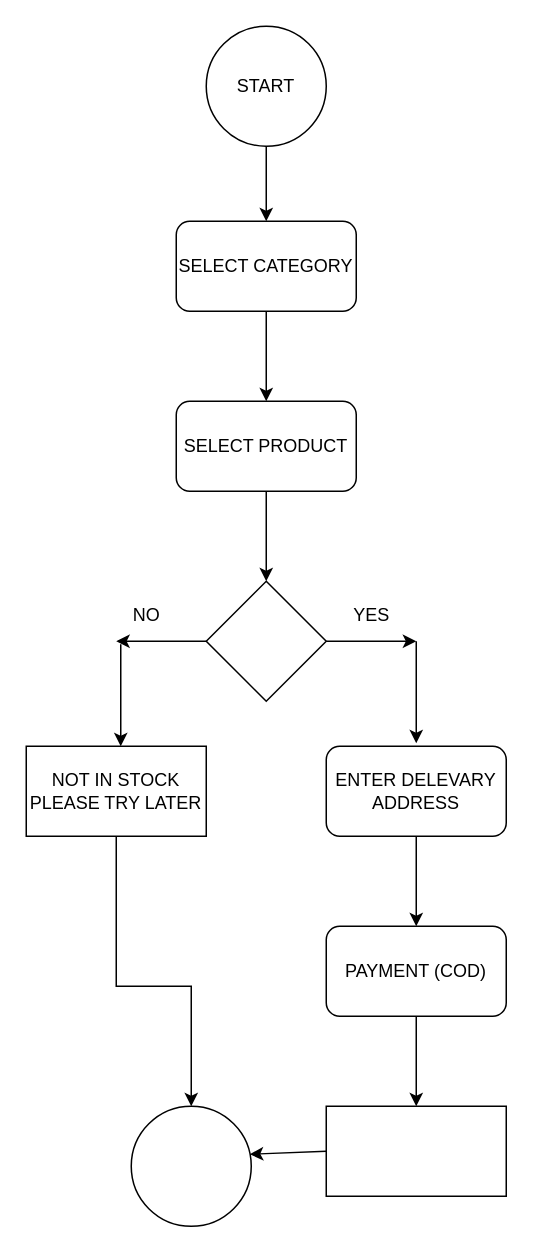
This 533x1253 diagram has some shape labels left out. The shapes that lost their labels are listed below. From the top down, each one's box as (x1, y1, x2, y2) in pixels, then its label:
(205, 580, 326, 701): IN STOCK
(130, 1105, 251, 1226): END
(325, 1105, 506, 1196): ORDER PLACED SUCCESSFULLY
